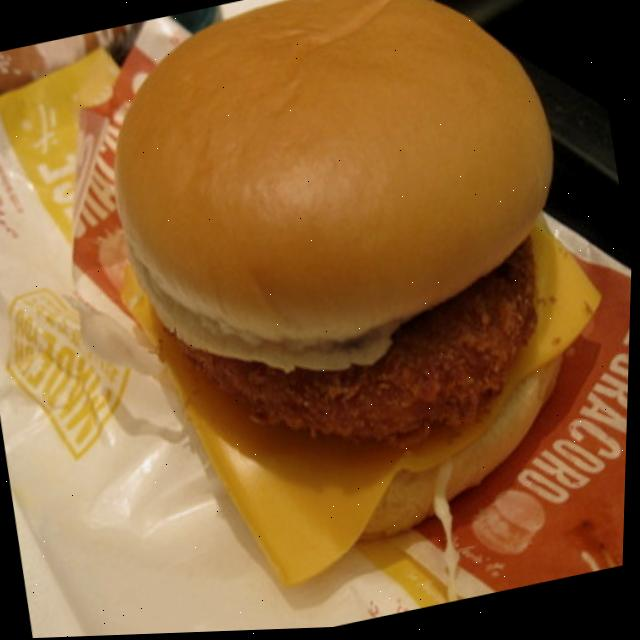汉堡快餐: (77, 0, 640, 627)
